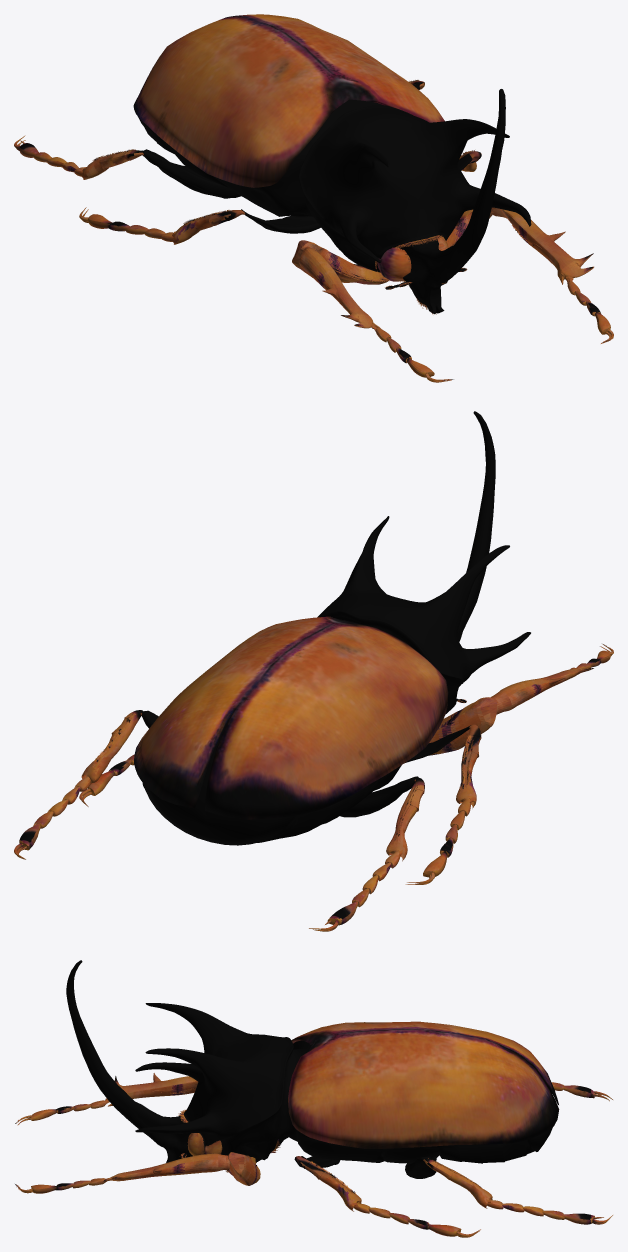
3 renders of one model, top to bottom at view 1: azimuth 30°, elevation 25°; view 2: azimuth 150°, elevation 25°; view 3: azimuth 270°, elevation 25°, orthographic. The views are drawn at different scales.
Visible parts, largest first — view 1: AnyConv.com__9120120625.max; view 2: AnyConv.com__9120120625.max; view 3: AnyConv.com__9120120625.max.
Part boxes in pixels (<box>): AnyConv.com__9120120625.max: <box>14,14,613,382</box>; AnyConv.com__9120120625.max: <box>14,411,613,931</box>; AnyConv.com__9120120625.max: <box>15,960,612,1237</box>.
Bounding box in the file's own units: 4.51 × 3.22 × 8.02.
Materials: 1 (1 with a texture image).
